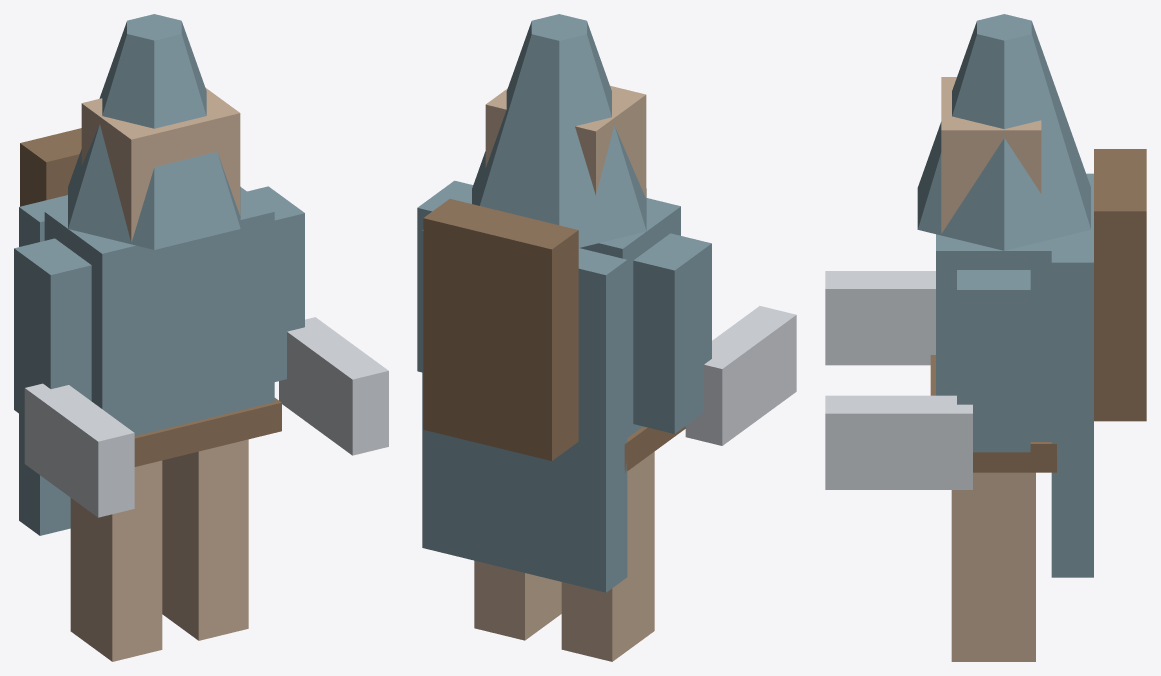
Rendered from unit-rogue.glb.
3 renders of one model, left to right at view 1: azimuth 30°, elevation 25°; view 2: azimuth 150°, elevation 25°; view 3: azimuth 270°, elevation 25°, orthographic.
Parts seen in each view (by area): view 1: unit-rogue; view 2: unit-rogue; view 3: unit-rogue.
Boxes of the visible parts, bbox=[...] form: unit-rogue: bbox=[14, 14, 388, 661]; unit-rogue: bbox=[417, 14, 796, 661]; unit-rogue: bbox=[825, 14, 1146, 661].
Bounding box in the file's own units: 0.32 × 0.63 × 0.305.
